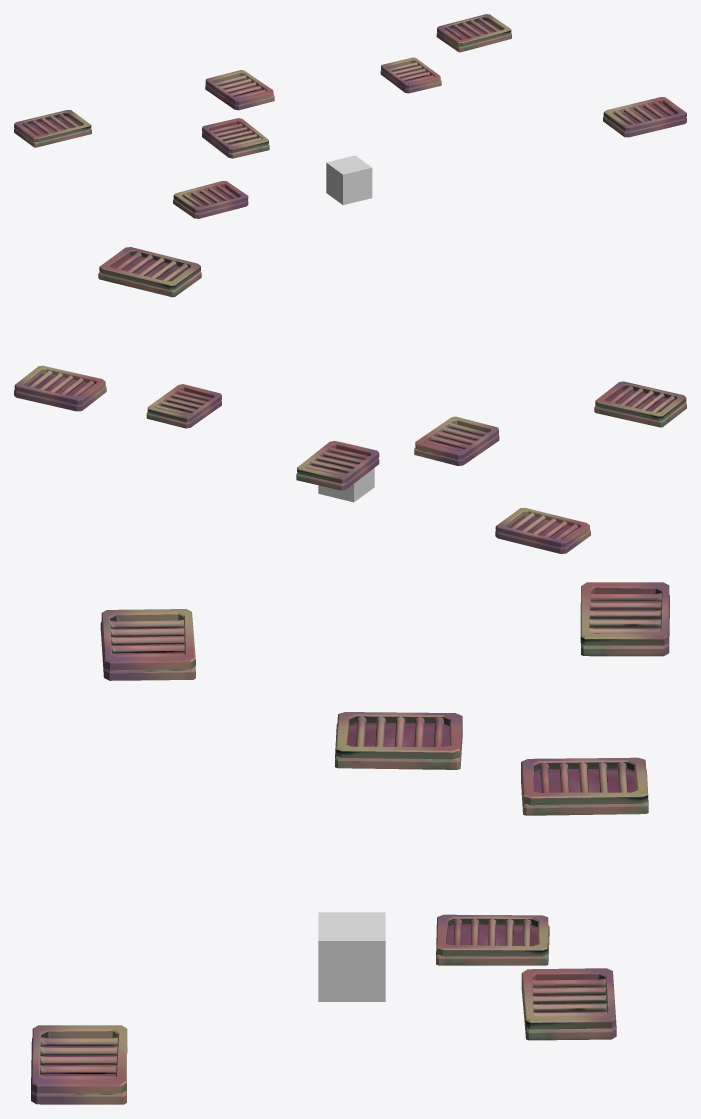
File: battlescence-1-floor003.fbx
3 views of the same model, one above another, from view 1: azimuth 30°, elevation 25°; view 2: azimuth 150°, elevation 25°; view 3: azimuth 270°, elevation 25° (orthographic). The views are drawn at different scales.
Parts seen in each view (by area): view 1: Cylinder.008, Cylinder.013, battlescence-1-floor003, Cylinder.012, Cylinder.005, Cylinder.010, Cylinder.014, Cylinder.007; view 2: Cylinder.008, Cylinder.013, Cylinder.005, Cylinder.012, Cylinder.014, Cylinder.010, Cylinder.007, battlescence-1-floor003; view 3: Cylinder.008, Cylinder.010, Cylinder.014, Cylinder.013, Cylinder.012, Cylinder.005, battlescence-1-floor003, Cylinder.007.
Part boxes in pixels (left/top/right/bottom): Cylinder.008: left=603, top=97, right=686, bottom=137; Cylinder.013: left=14, top=110, right=91, bottom=147; battlescence-1-floor003: left=326, top=155, right=372, bottom=205; Cylinder.012: left=173, top=181, right=248, bottom=218; Cylinder.005: left=436, top=14, right=511, bottom=52; Cylinder.010: left=205, top=70, right=274, bottom=110; Cylinder.014: left=202, top=118, right=269, bottom=158; Cylinder.007: left=380, top=57, right=441, bottom=93; Cylinder.008: left=98, top=247, right=201, bottom=297; Cylinder.013: left=495, top=508, right=590, bottom=553; Cylinder.005: left=14, top=365, right=106, bottom=411; Cylinder.012: left=594, top=381, right=686, bottom=427; Cylinder.014: left=414, top=416, right=499, bottom=465; Cylinder.010: left=296, top=441, right=379, bottom=490; Cylinder.007: left=146, top=384, right=221, bottom=428; battlescence-1-floor003: left=318, top=441, right=374, bottom=502; Cylinder.008: left=31, top=1025, right=127, bottom=1104; Cylinder.010: left=521, top=757, right=648, bottom=815; Cylinder.014: left=335, top=712, right=462, bottom=769; Cylinder.013: left=580, top=582, right=669, bottom=656; Cylinder.012: left=100, top=609, right=195, bottom=680; Cylinder.005: left=521, top=968, right=616, bottom=1040; battlescence-1-floor003: left=318, top=912, right=385, bottom=1001; Cylinder.007: left=436, top=914, right=549, bottom=965.
Bounding box in the file's own units: 2548 × 396 × 1366.
